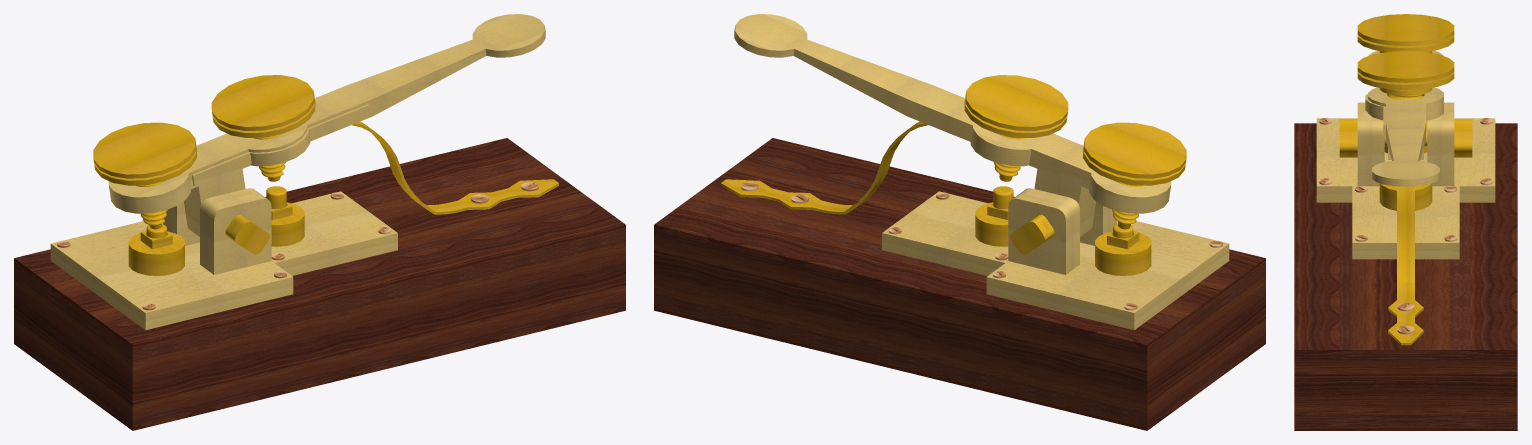
3 views of the same model, side by side, from view 1: azimuth 30°, elevation 25°; view 2: azimuth 150°, elevation 25°; view 3: azimuth 270°, elevation 25° (orthographic). The views are drawn at different scales.
Parts seen in each view (by area): view 1: Box001, Cylinder006, Box002, Box003, Helix001, Helix002, Box004, Cylinder2 (×2), Box010, Box006, spring, Box005; view 2: Box001, Cylinder006, Box002, Box003, Helix002, Helix001, Box005, Cylinder2 (×2), Box010, Box007, spring, Box004; view 3: Box001, Box003, Box002, Cylinder006, Helix002, Helix001, Box005, Box004, spring, Box010, Cylinder2, Box006 (+1 smaller).
Boxes of the visible parts, left/top/right/bottom form: Box001: left=14, top=138, right=625, bottom=430; Cylinder006: left=108, top=14, right=545, bottom=236; Box002: left=50, top=221, right=293, bottom=330; Box003: left=271, top=191, right=397, bottom=275; Helix001: left=93, top=122, right=196, bottom=229; Helix002: left=211, top=75, right=315, bottom=181; Box004: left=200, top=188, right=271, bottom=274; Cylinder2 (×2): left=128, top=202, right=304, bottom=275; Box010: left=427, top=179, right=558, bottom=214; Box006: left=225, top=214, right=269, bottom=254; spring: left=351, top=121, right=436, bottom=214; Box005: left=163, top=201, right=199, bottom=245; Box001: left=654, top=138, right=1265, bottom=430; Cylinder006: left=734, top=14, right=1171, bottom=236; Box002: left=986, top=221, right=1229, bottom=330; Box003: left=882, top=191, right=1008, bottom=275; Helix002: left=964, top=75, right=1068, bottom=181; Helix001: left=1083, top=122, right=1186, bottom=229; Box005: left=1008, top=188, right=1079, bottom=274; Cylinder2 (×2): left=975, top=202, right=1151, bottom=275; Box010: left=721, top=179, right=852, bottom=214; Box007: left=1010, top=214, right=1054, bottom=254; spring: left=843, top=121, right=928, bottom=214; Box004: left=1080, top=201, right=1116, bottom=245; Box001: left=1294, top=123, right=1517, bottom=430; Box003: left=1352, top=186, right=1459, bottom=259; Box002: left=1316, top=118, right=1495, bottom=202; Cylinder006: left=1365, top=50, right=1443, bottom=186; Helix002: left=1357, top=51, right=1454, bottom=99; Helix001: left=1357, top=14, right=1454, bottom=52; Box005: left=1427, top=102, right=1454, bottom=186; Box004: left=1357, top=102, right=1384, bottom=186; spring: left=1397, top=186, right=1414, bottom=282; Box010: left=1388, top=282, right=1423, bottom=345; Cylinder2: left=1379, top=183, right=1432, bottom=210; Box006: left=1339, top=119, right=1357, bottom=157.
Bounding box in the file's own units: 60 × 29.53 × 25.
